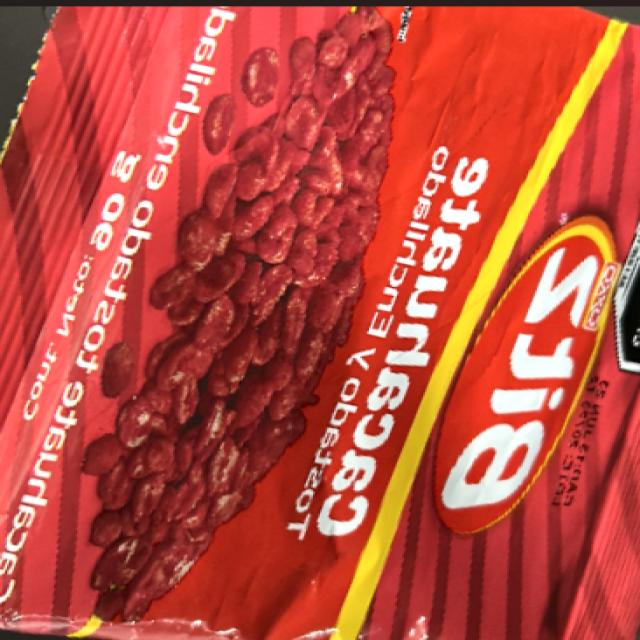bitzEnchilado90: (54, 10, 638, 640)
